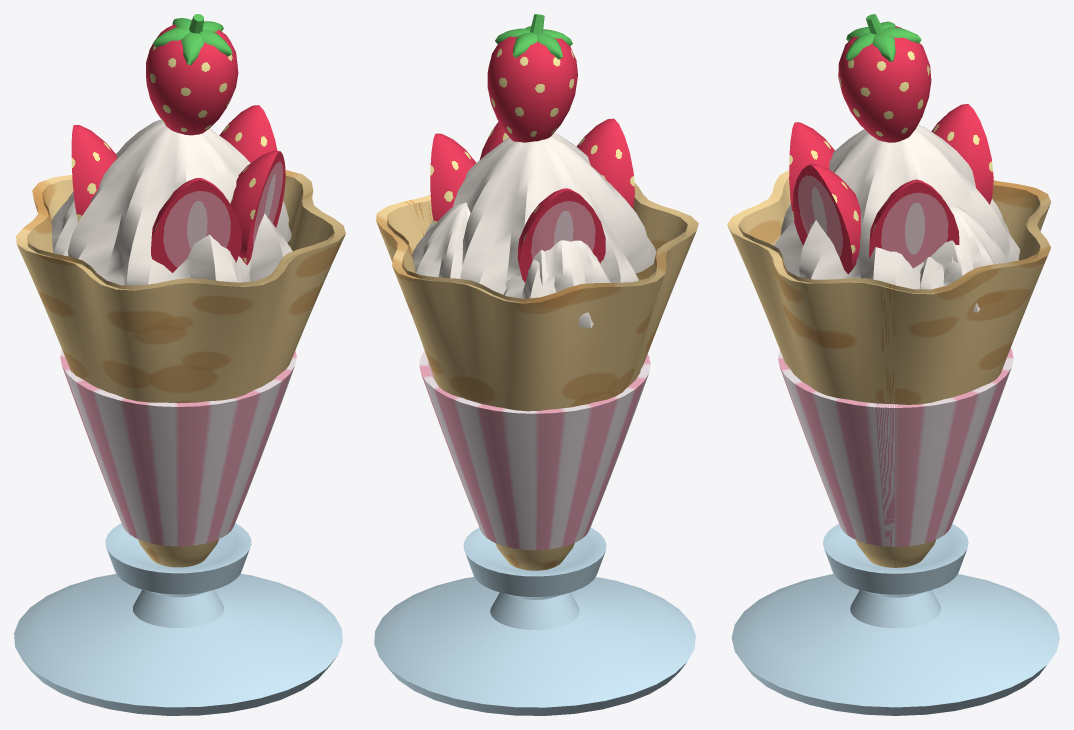
The model's file is Crepe.glb.
3 renders of one model, left to right at view 1: azimuth 30°, elevation 25°; view 2: azimuth 150°, elevation 25°; view 3: azimuth 270°, elevation 25°, orthographic. The views are drawn at different scales.
Parts seen in each view (by area): view 1: Crepe; view 2: Crepe; view 3: Crepe.
Part boxes in pixels (left/top/right/bottom): Crepe: left=14, top=14, right=345, bottom=715; Crepe: left=374, top=14, right=698, bottom=715; Crepe: left=727, top=14, right=1059, bottom=715.
Bounding box in the file's own units: 0.7214 × 1.55 × 0.73.
7 materials, 7 textured.
